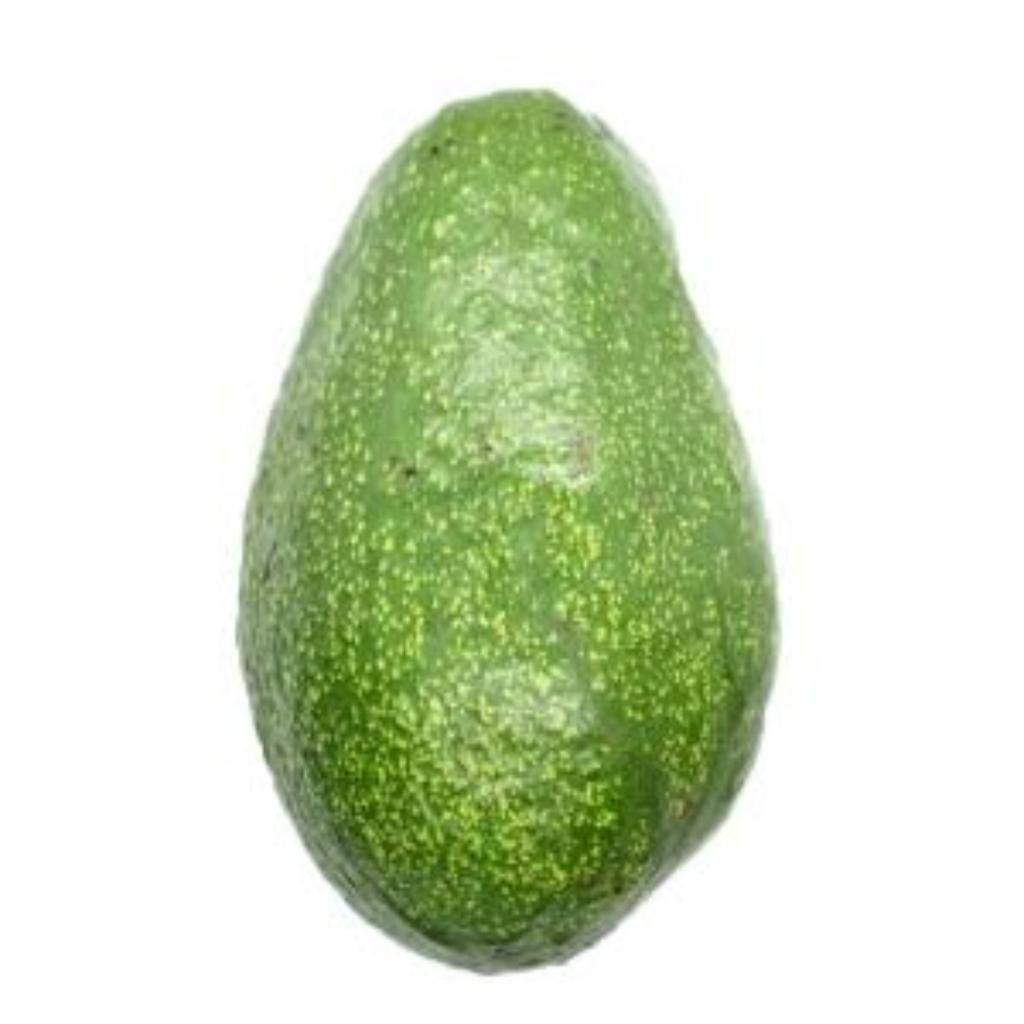cercospora: (225, 82, 775, 976)
